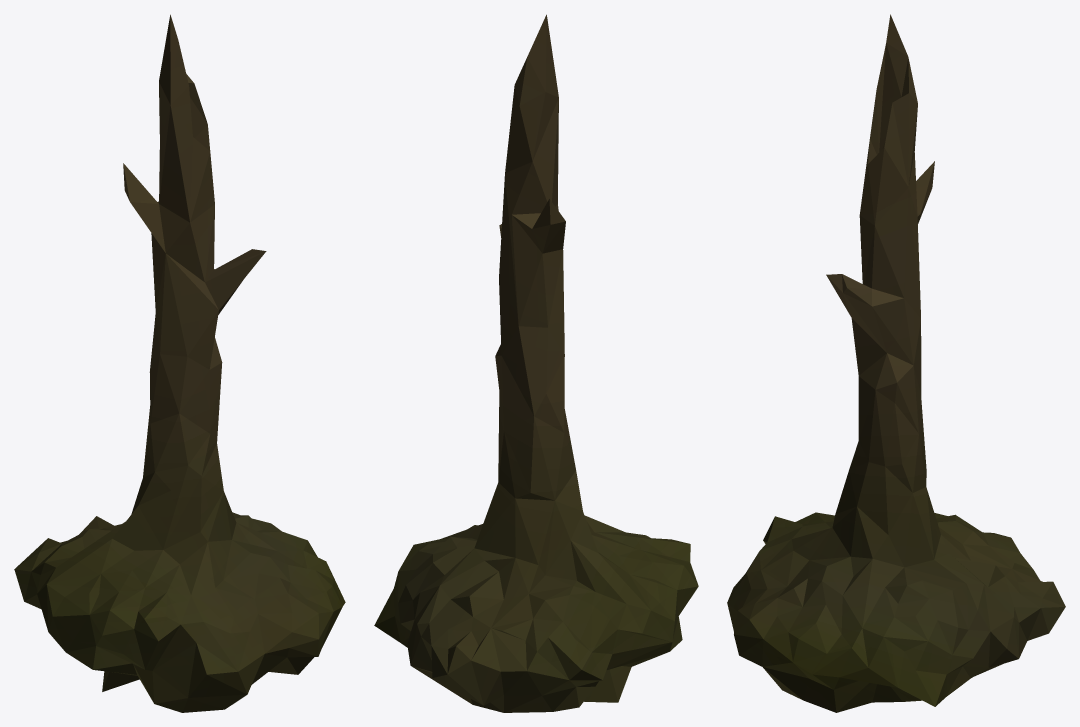
The model's file is Beech_TreeStump_01.fbx.
3 renders of one model, left to right at view 1: azimuth 30°, elevation 25°; view 2: azimuth 150°, elevation 25°; view 3: azimuth 270°, elevation 25°, orthographic.
Visible parts, largest first — view 1: Beech_TreeStump_01; view 2: Beech_TreeStump_01; view 3: Beech_TreeStump_01.
Part boxes in pixels (<box>): Beech_TreeStump_01: <box>14,14,345,712</box>; Beech_TreeStump_01: <box>374,14,698,712</box>; Beech_TreeStump_01: <box>727,14,1065,712</box>.
Size of the model in its own units: 330 by 791 by 359.
